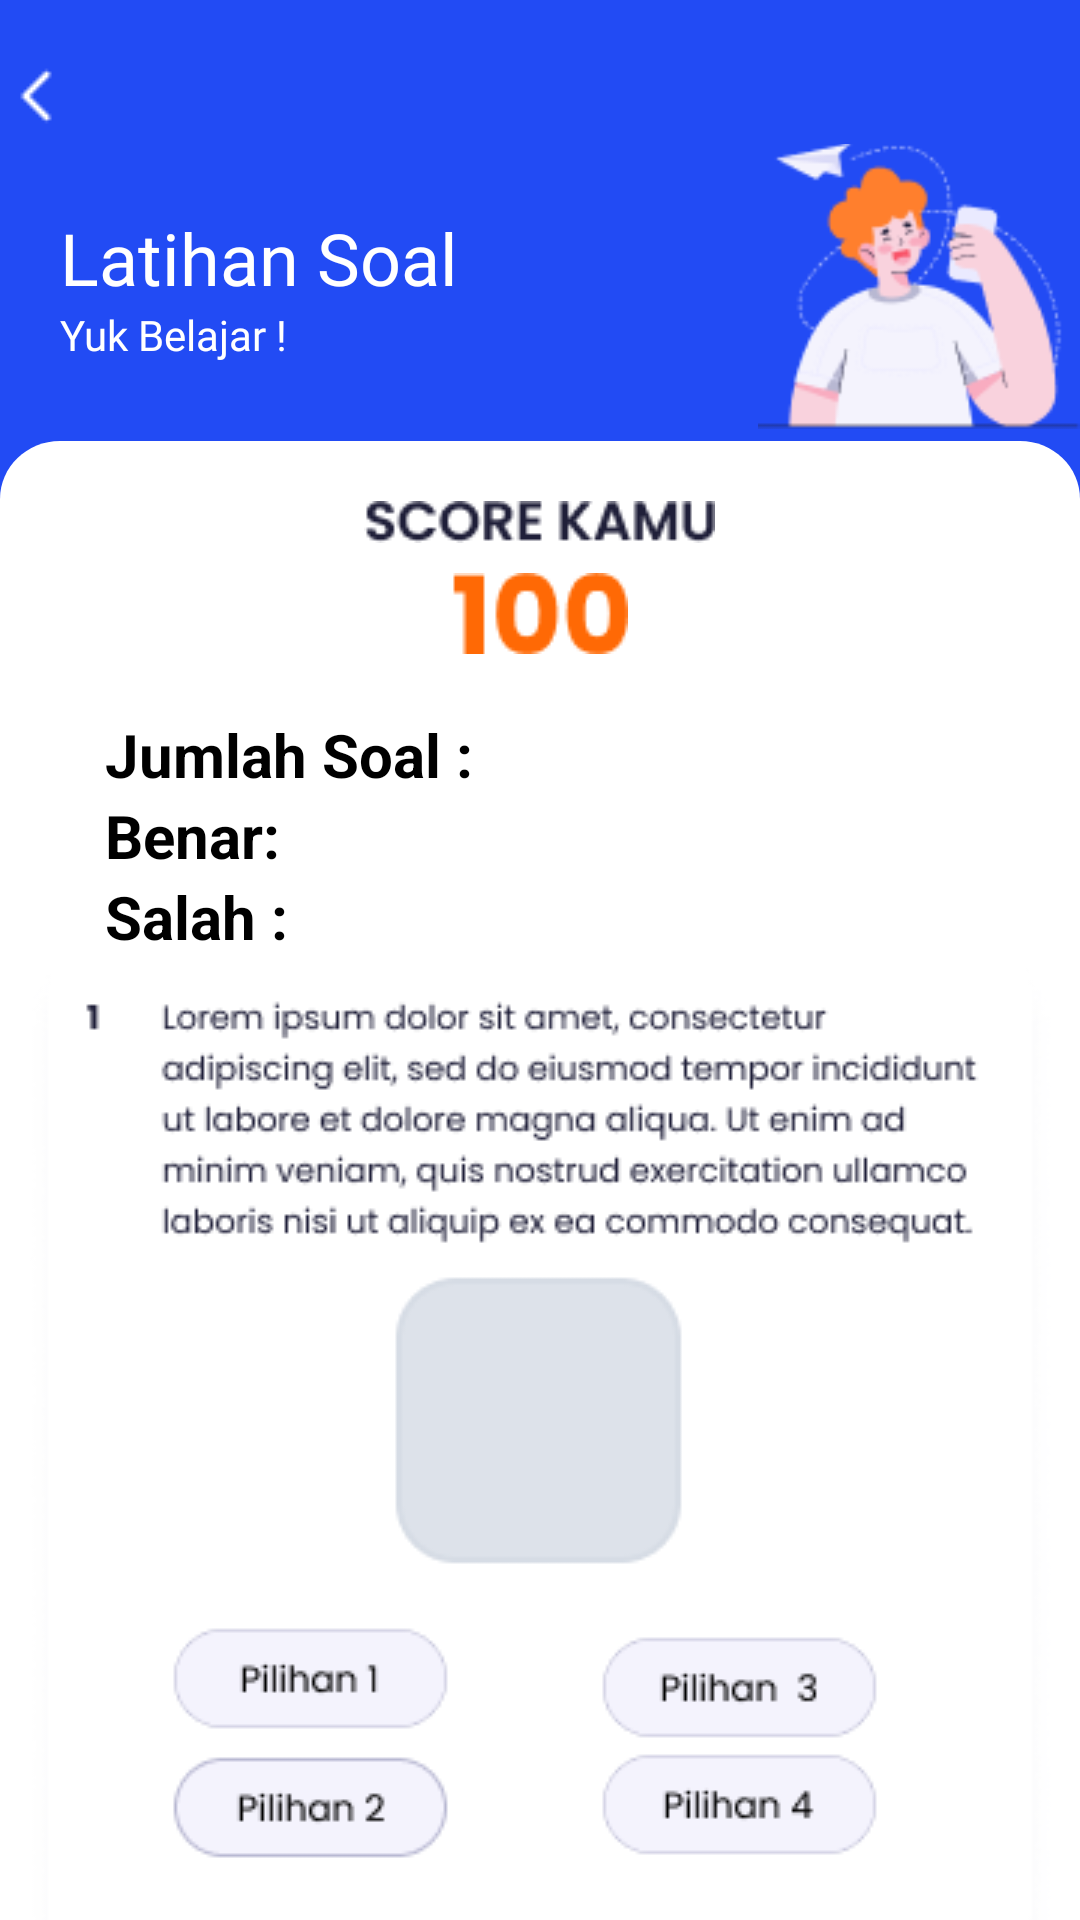

Where to tap for icons on this 1080px x 1920px app screen, as point (x, y):
leftsiku: point (36, 95)
